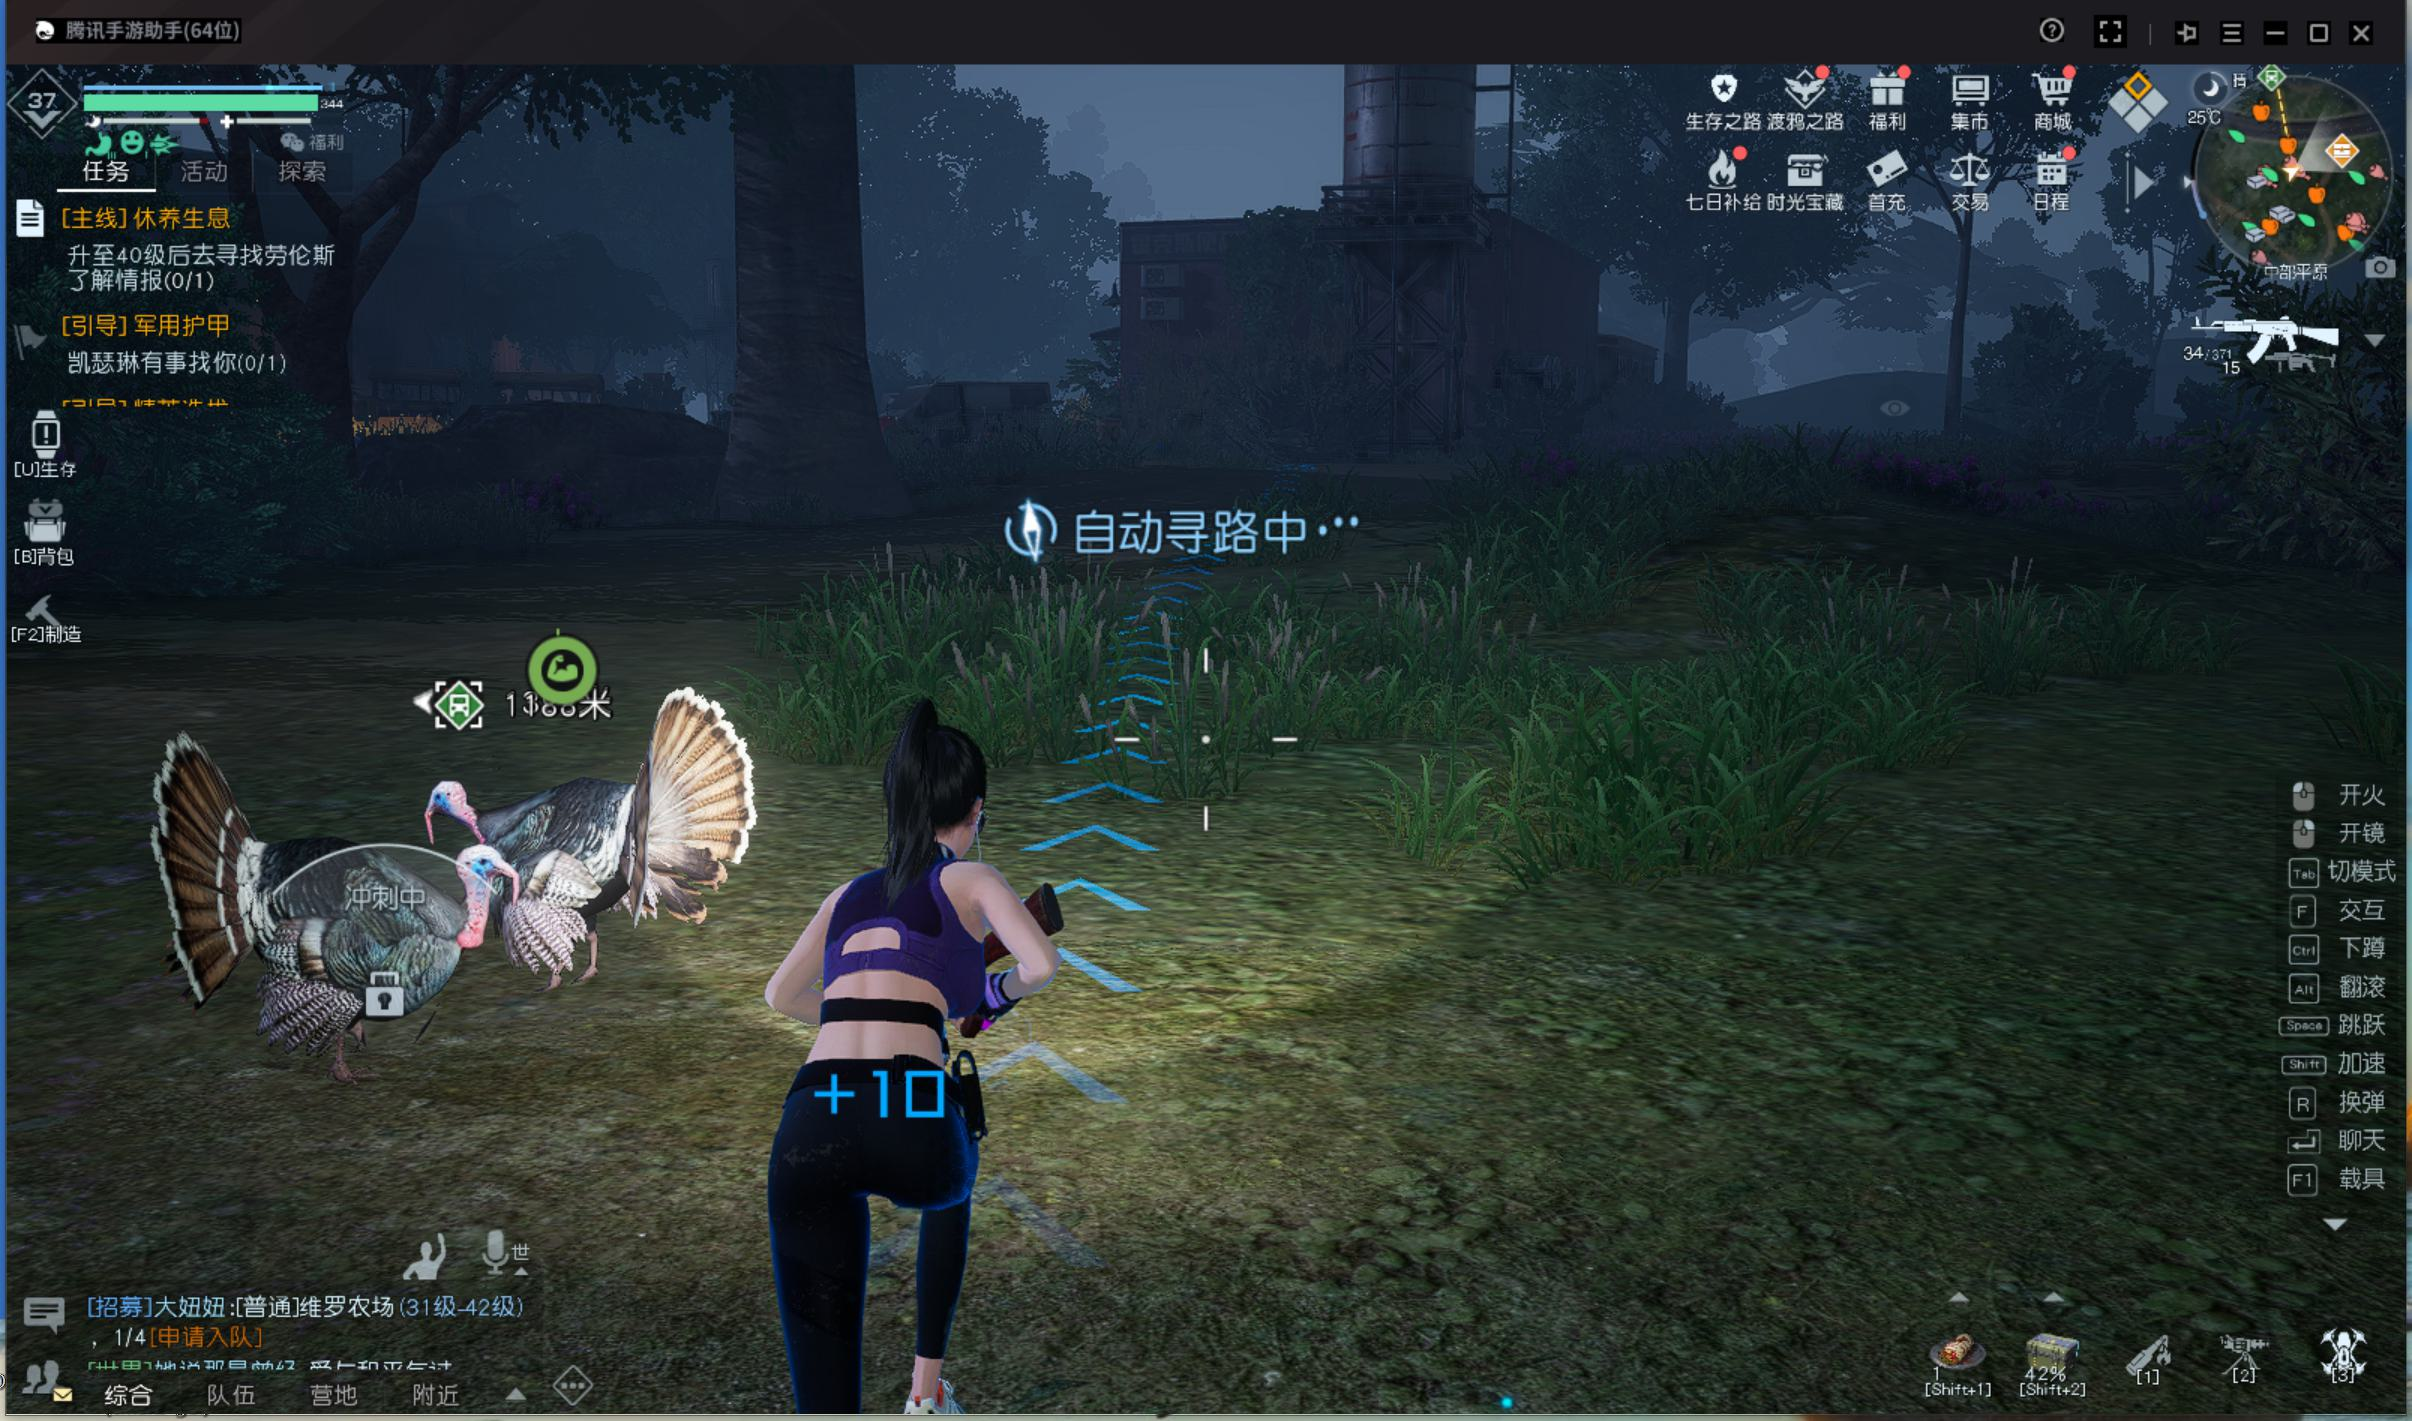tree: (693, 115, 908, 558)
